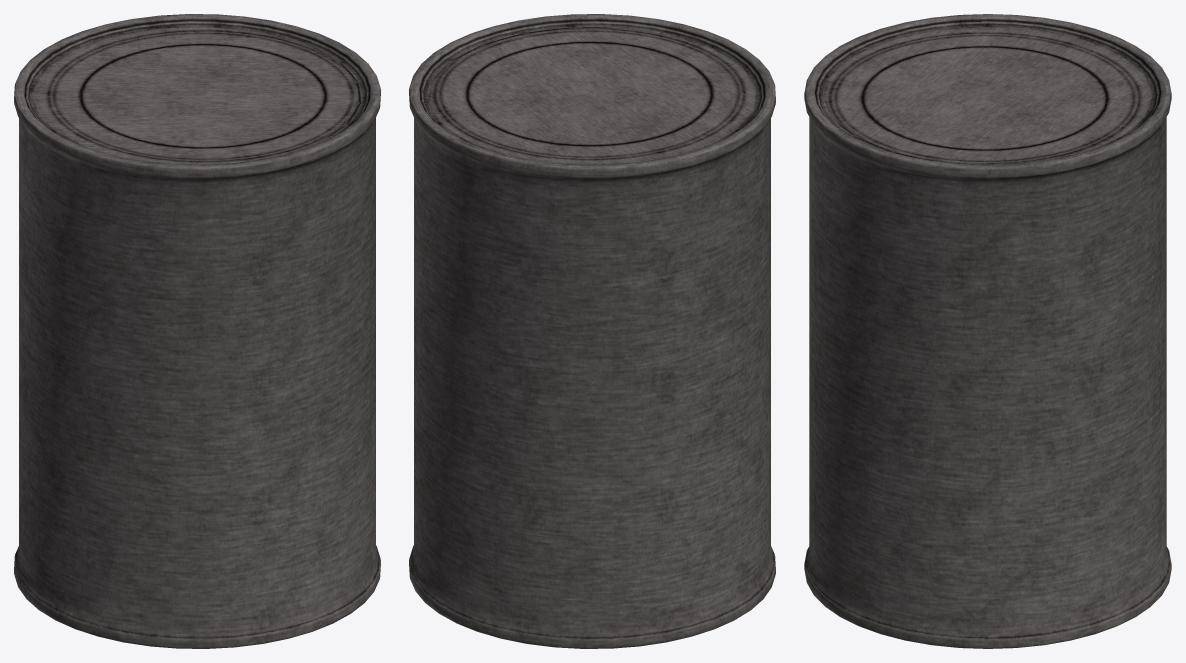
Rendered from item_food.glb.
3 renders of one model, left to right at view 1: azimuth 30°, elevation 25°; view 2: azimuth 150°, elevation 25°; view 3: azimuth 270°, elevation 25°, orthographic.
Parts seen in each view (by area): view 1: Cylinder; view 2: Cylinder; view 3: Cylinder.
Boxes of the visible parts, x1,y1,x2,y2 form: Cylinder: [14, 14, 380, 648]; Cylinder: [409, 14, 775, 648]; Cylinder: [804, 14, 1171, 648].
Bounding box in the file's own units: 203 × 293 × 203.
1 material, 1 textured.
